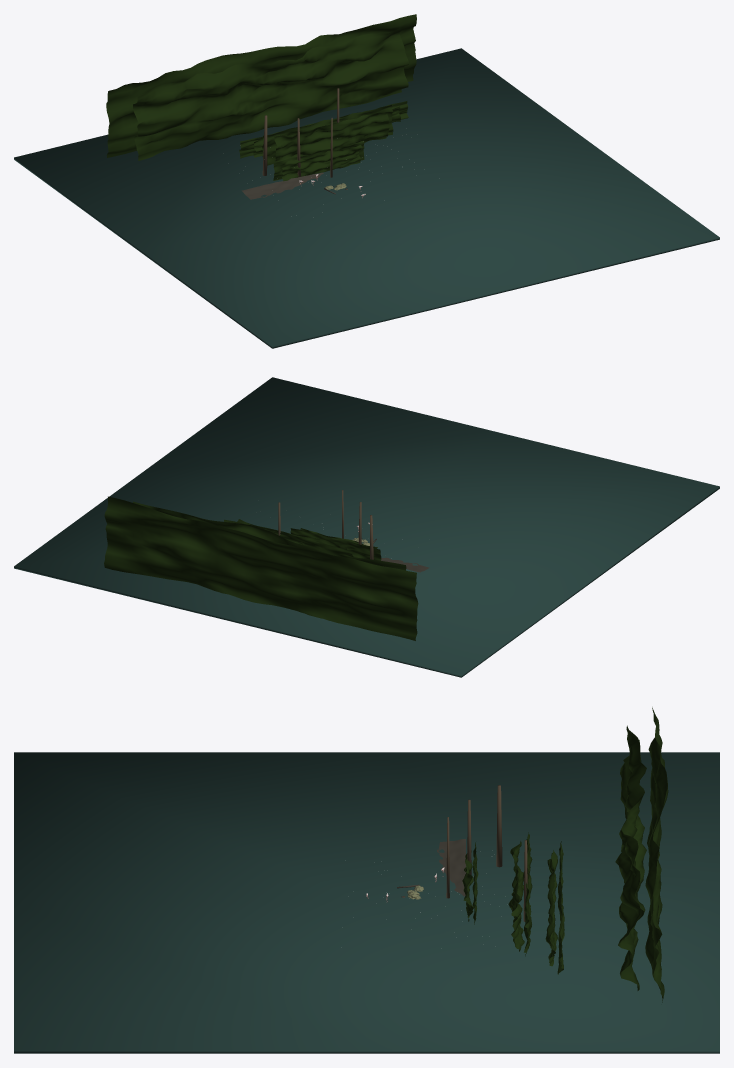
3 views of the same model, one above another, from view 1: azimuth 30°, elevation 25°; view 2: azimuth 150°, elevation 25°; view 3: azimuth 270°, elevation 25° (orthographic). The views are drawn at different scales.
Visible parts, largest first — view 1: Water.001, Foliage_far.001, Foliage_far_mass.001, Foliage_mid.001, Foliage_near.001, Foliage_mid_mass.001, Bank.001, Foliage_near_mass.001, Foliage_sunlit_mass.001; view 2: Water.001, Foliage_far_mass.001, Foliage_far.001, Foliage_near_mass.001, Foliage_mid_mass.001; view 3: Water.001, Foliage_far.001, Foliage_far_mass.001, Bank.001, Foliage_mid.001, Foliage_sunlit.001, Foliage_mid_mass.001, Foliage_sunlit_mass.001.
Boxes of the visible parts, box(x1,y1,x2,y2) form: Water.001: box(14, 48, 719, 348); Foliage_far.001: box(133, 27, 409, 160); Foliage_far_mass.001: box(106, 14, 416, 157); Foliage_mid.001: box(274, 112, 389, 161); Foliage_near.001: box(282, 145, 362, 181); Foliage_mid_mass.001: box(262, 104, 393, 165); Bank.001: box(241, 172, 323, 199); Foliage_near_mass.001: box(273, 140, 364, 180); Foliage_sunlit_mass.001: box(239, 101, 408, 158); Water.001: box(14, 377, 719, 677); Foliage_far_mass.001: box(104, 496, 418, 640); Foliage_far.001: box(133, 501, 406, 570); Foliage_near_mass.001: box(290, 528, 381, 560); Foliage_mid_mass.001: box(224, 519, 353, 557); Water.001: box(14, 752, 719, 1053); Foliage_far.001: box(615, 725, 646, 990); Foliage_far_mass.001: box(645, 707, 668, 1002); Bank.001: box(437, 839, 465, 896); Foliage_mid.001: box(508, 841, 524, 951); Foliage_sunlit.001: box(545, 850, 557, 966); Foliage_mid_mass.001: box(522, 832, 532, 956); Foliage_sunlit_mass.001: box(557, 841, 564, 974).
Size of the model in its own units: 80 by 15.01 by 80.
